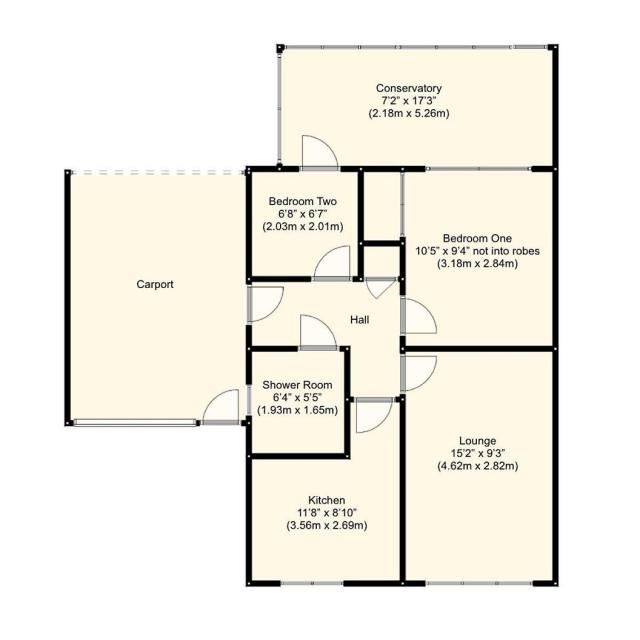DOOR: (296, 313, 341, 352), (352, 396, 397, 434), (399, 294, 438, 337), (245, 283, 284, 326), (309, 245, 354, 282), (399, 353, 438, 395), (298, 134, 341, 172)
ROOM: (399, 345, 559, 587), (357, 166, 559, 352), (245, 397, 406, 587), (246, 134, 365, 282)
WINDOW: (425, 165, 533, 173), (424, 580, 534, 587), (245, 384, 252, 417)
